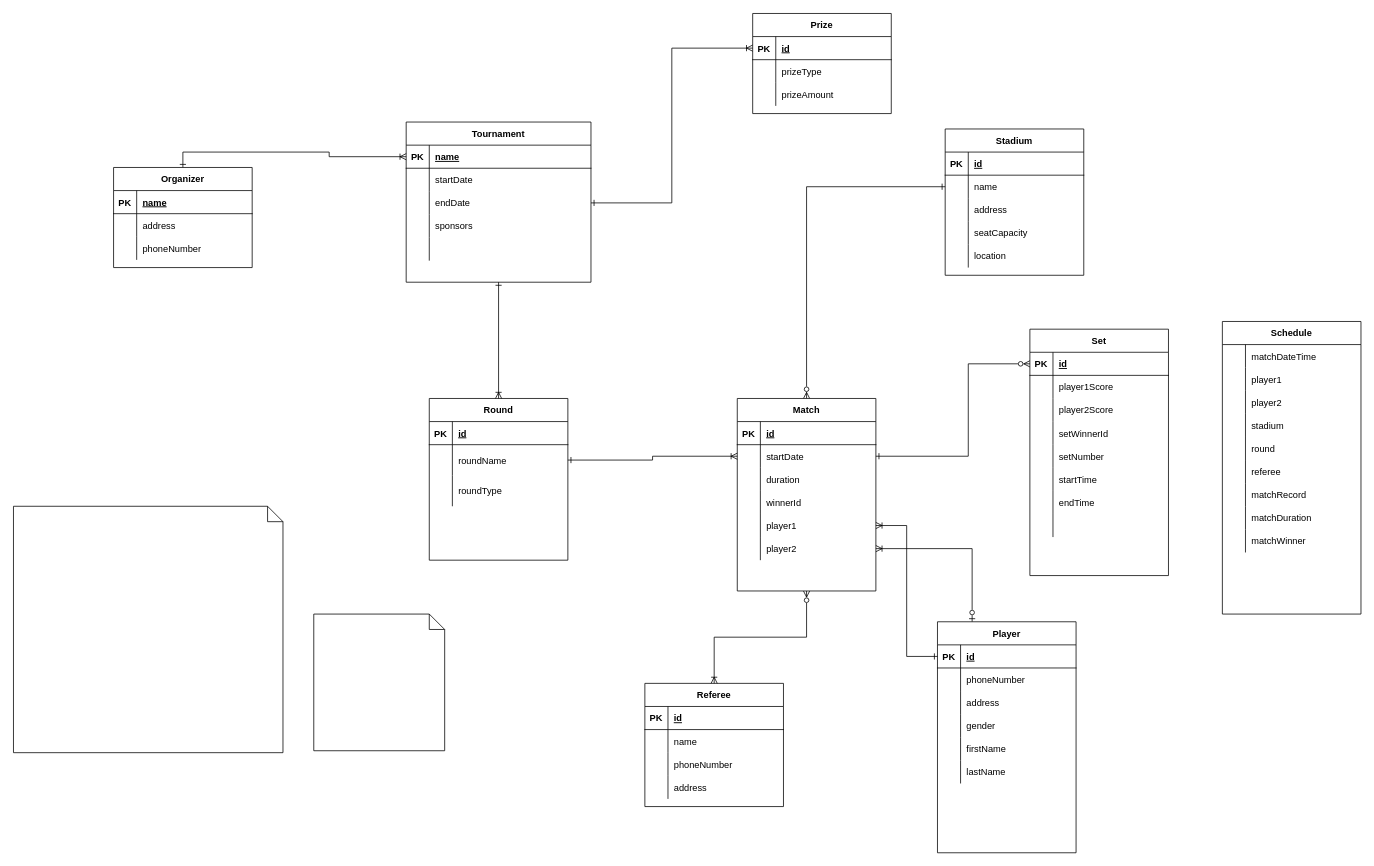
The diagram is 1374 pixels wide and 866 high, and some of its shapes have lost their labels. Each missing label, with the centre of its shape:
"match player2 can be null if forfeit" belongs at pixel 379 682.
"roundType: ROUNDOF64, ROUNDOF32, ROUNDOF16, QUARTERFINAL, SEMIFINAL, FINAL" belongs at pixel 148 629.
